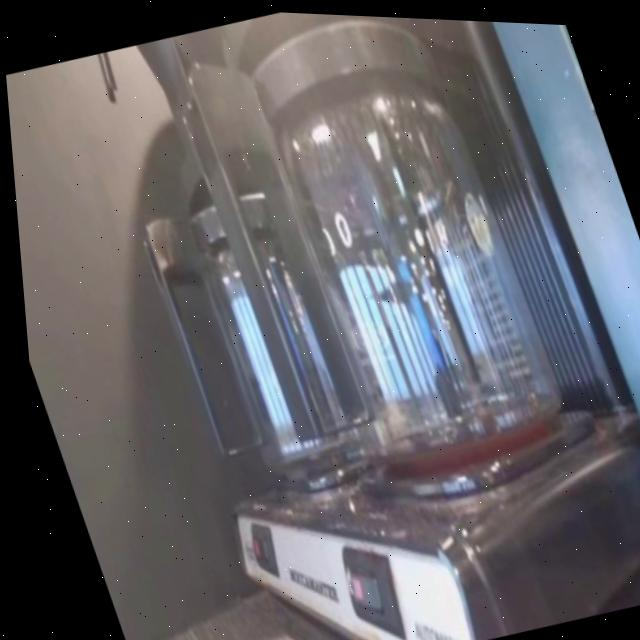nocoffee: (258, 89, 563, 460), (185, 245, 328, 454)
